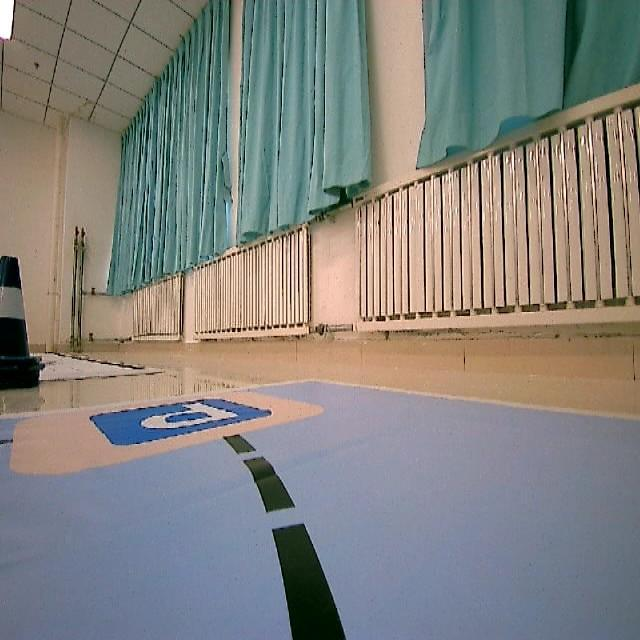obstacle: (0, 244, 45, 402)
